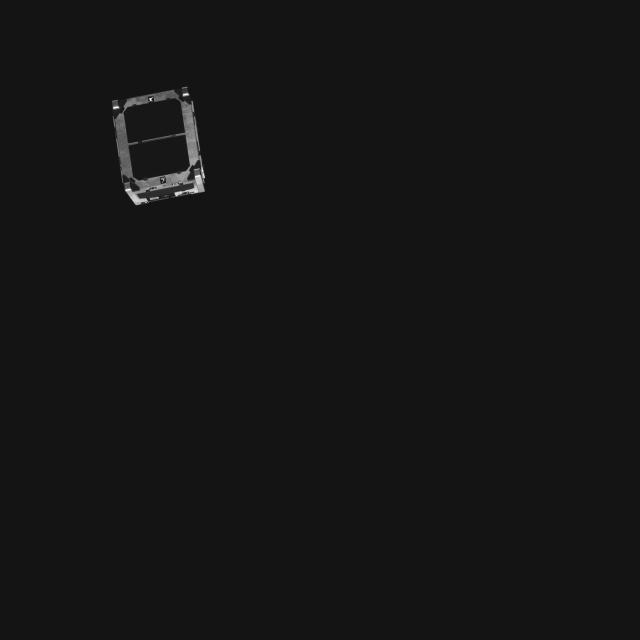satellite: (112, 87, 210, 208)
